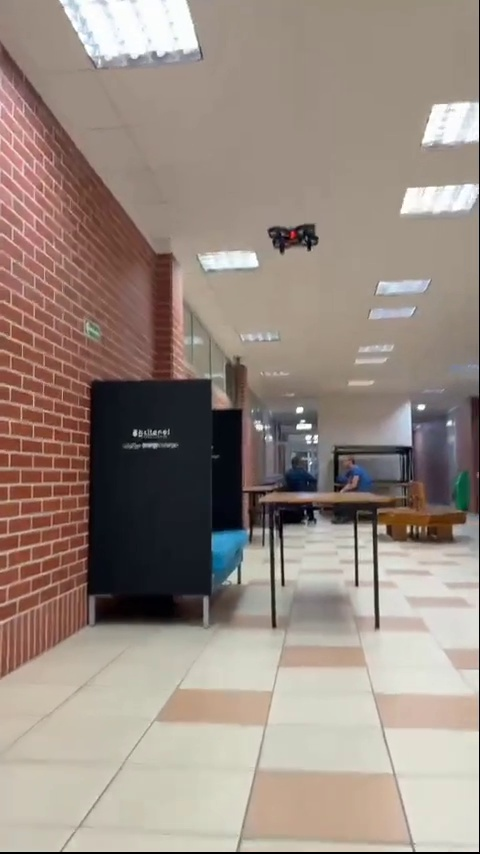drone: (268, 221, 317, 254)
no vest: (333, 454, 372, 496), (283, 454, 319, 490)
